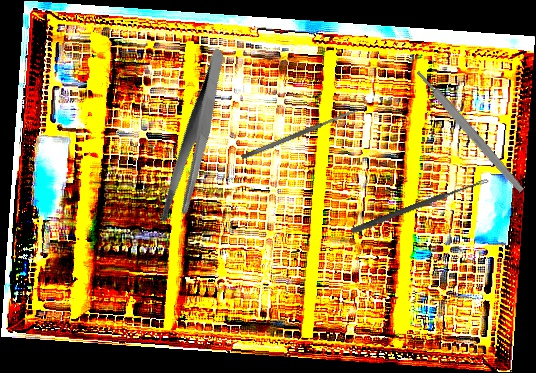Dressing Forceps: (124, 47, 268, 230)
Scalpel Handle: (414, 68, 526, 194)
Spatula Surgical: (240, 107, 359, 161)
Surgical Spoon: (350, 176, 490, 235)
